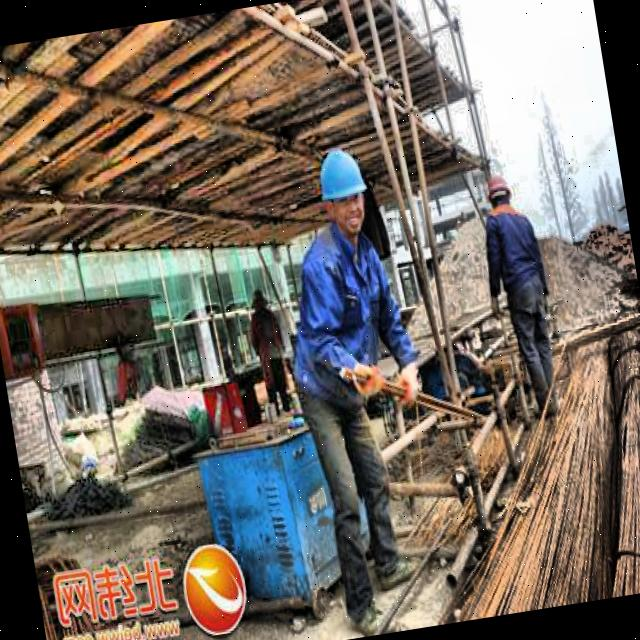helmet: (312, 140, 375, 242), (481, 168, 516, 216)
